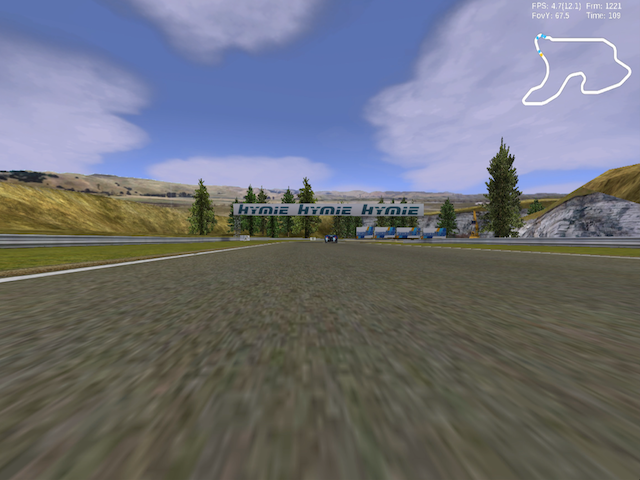FMC_GT4: (324, 235, 338, 243)
